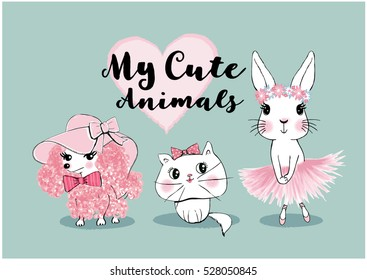animal: (247, 48, 324, 226)
cat: (158, 144, 234, 227)
dog: (40, 131, 141, 224)
